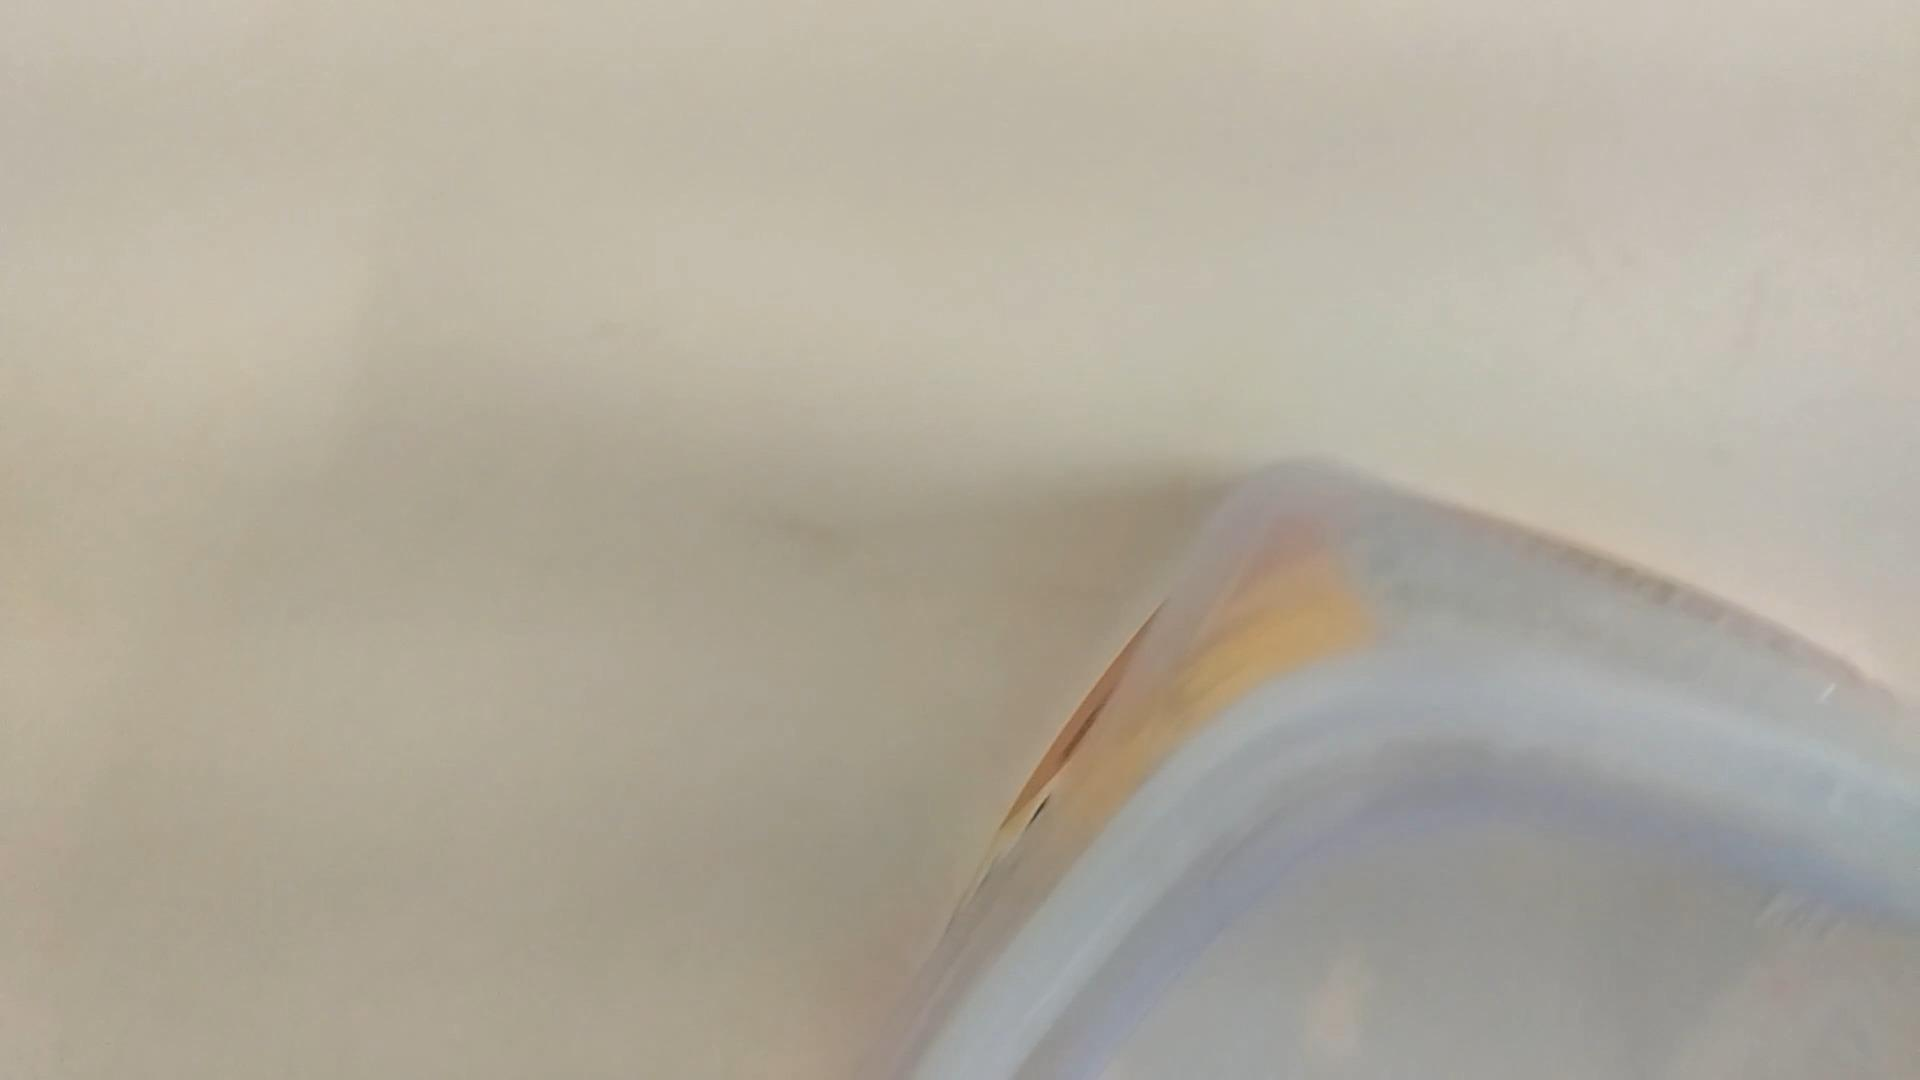butter: (845, 443, 1920, 1080)
